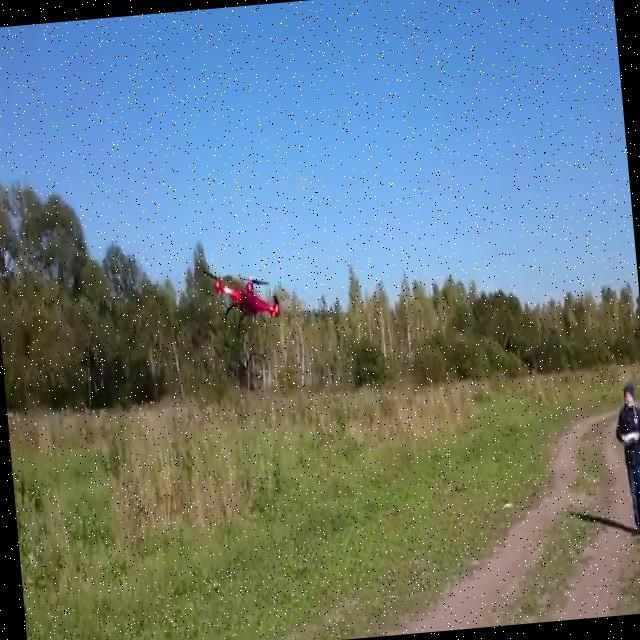Drons: (196, 256, 297, 375)
